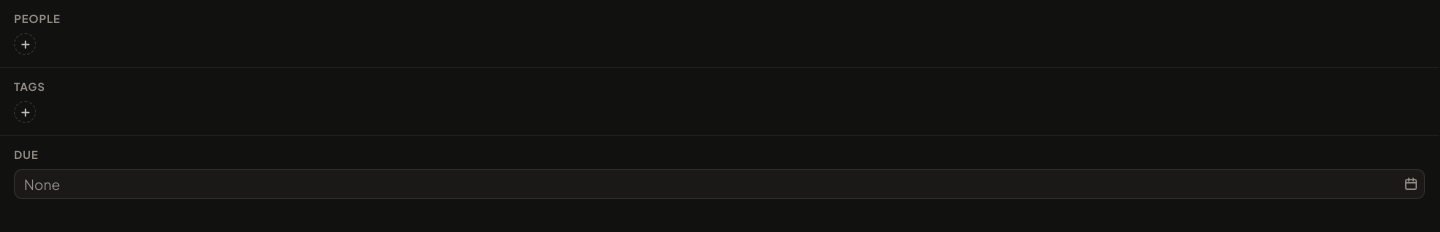
Scenario: TaskEditMetadata pickers and Esc › Esc in the Tags search closes the picker and is consumed
Click the button named "Add tag". click: (25, 112)
box: left=14, top=101, right=36, bottom=123
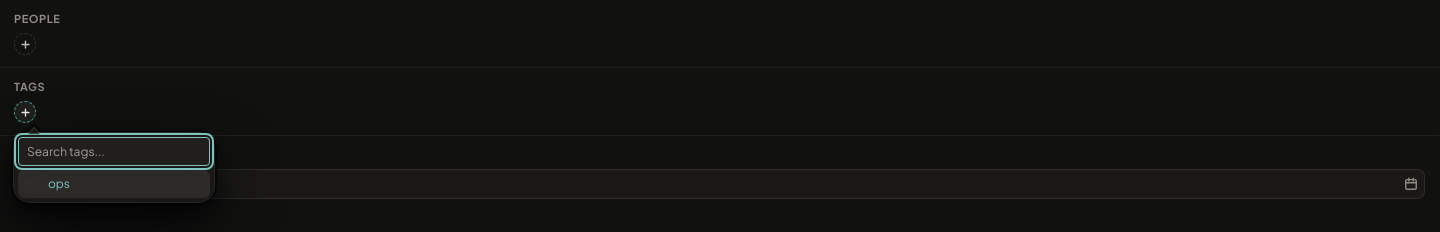
// `fireEvent` returns false when a handler called preventDefault (the dialog behind ignores it).
Press Escape in the dropdown with placeholder "Search tags...", box left=18, top=137, right=210, bottom=166
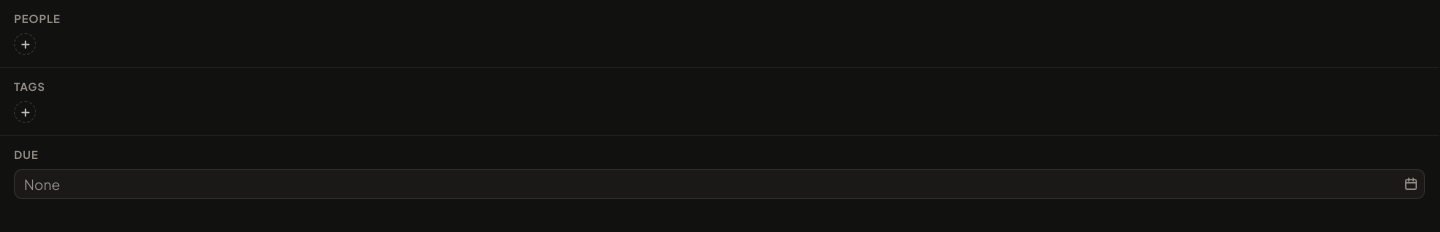
Expected: the field with placeholder "Search tags..." is not shown
Expected: the button named "Add tag" is collapsed, left=14, top=101, right=36, bottom=123
